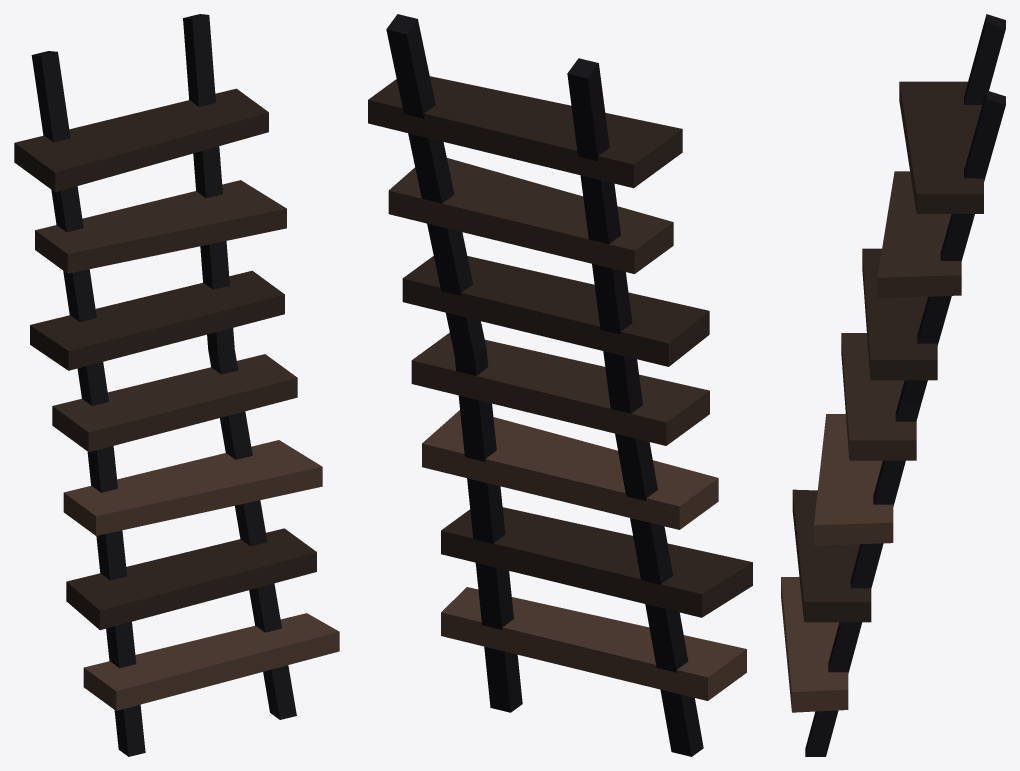
File: Ladder.fbx
3 views of the same model, side by side, from view 1: azimuth 30°, elevation 25°; view 2: azimuth 150°, elevation 25°; view 3: azimuth 270°, elevation 25° (orthographic). The views are drawn at different scales.
Parts seen in each view (by area): view 1: Ladder; view 2: Ladder; view 3: Ladder.
Boxes of the visible parts, bbox=[...] form: Ladder: bbox=[14, 14, 339, 756]; Ladder: bbox=[368, 14, 752, 756]; Ladder: bbox=[781, 14, 1005, 756].
Bounding box in the file's own units: 158 × 402 × 125.
